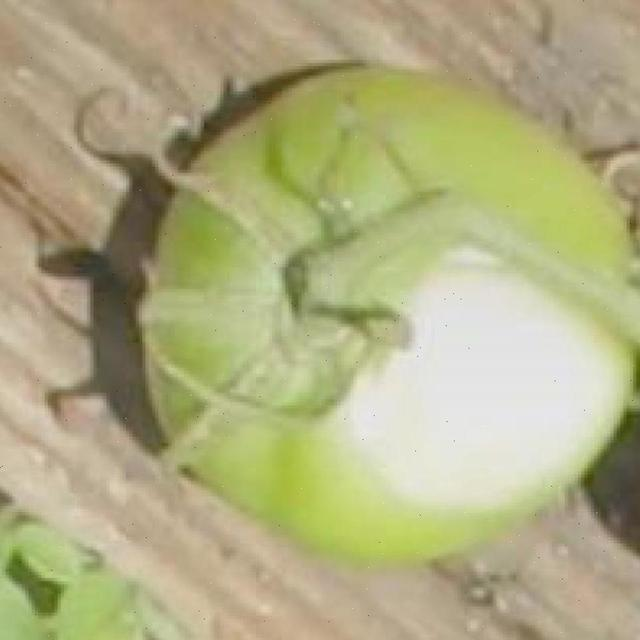Sunscald Fruit: (227, 164, 409, 345)
